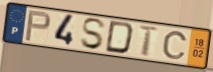4: (52, 12, 77, 49)
C: (161, 30, 189, 61)
D: (104, 20, 136, 56)
P: (24, 10, 53, 43)
S: (79, 17, 108, 51)
T: (137, 24, 160, 58)
